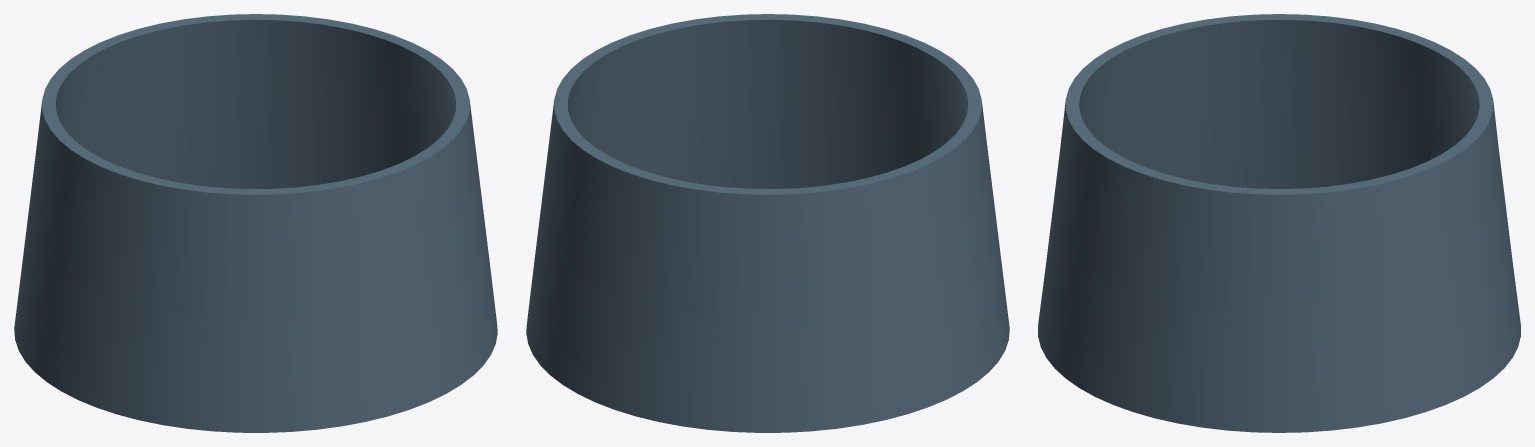
Rendered from perehod-426x12-377x12-L220.glb.
3 renders of one model, left to right at view 1: azimuth 30°, elevation 25°; view 2: azimuth 150°, elevation 25°; view 3: azimuth 270°, elevation 25°, orthographic.
Visible parts, largest first — view 1: Open CASCADE STEP translator 7.9 72; view 2: Open CASCADE STEP translator 7.9 72; view 3: Open CASCADE STEP translator 7.9 72.
Boxes of the visible parts, box(x1,y1,x2,y2) form: Open CASCADE STEP translator 7.9 72: box(14, 14, 497, 432); Open CASCADE STEP translator 7.9 72: box(526, 14, 1009, 432); Open CASCADE STEP translator 7.9 72: box(1038, 14, 1520, 432).
Size of the model in its own units: 426 by 220 by 425.
